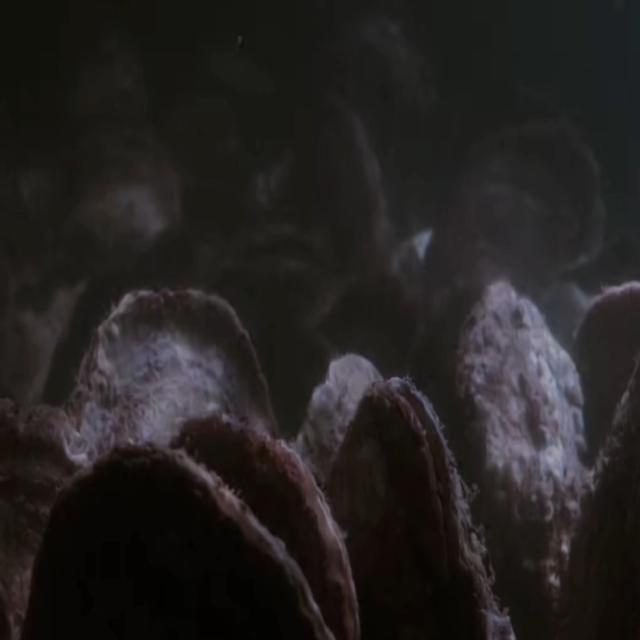Oyster-Closed: (22, 444, 333, 640), (168, 411, 360, 639), (0, 396, 99, 640)
Oyster-Indeterminate: (62, 286, 282, 640), (440, 278, 592, 640), (418, 116, 606, 335), (294, 353, 385, 640), (301, 89, 402, 292), (59, 140, 182, 274), (570, 282, 640, 478)
Oyster-Open: (327, 376, 512, 640), (210, 217, 337, 319)
